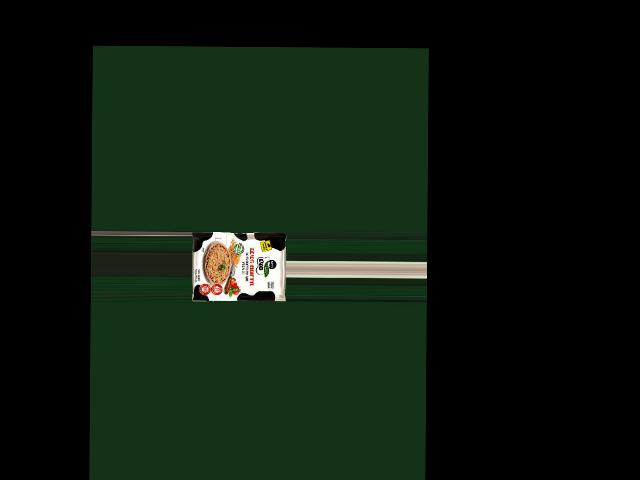cheese: (196, 230, 279, 313)
